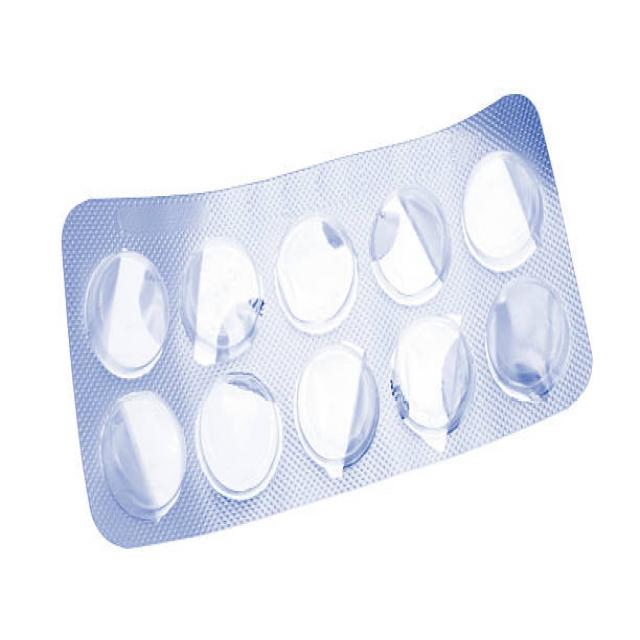Empty: (96, 379, 187, 525), (82, 241, 172, 386), (196, 365, 290, 502), (171, 224, 263, 359), (295, 339, 384, 478), (267, 202, 357, 338), (454, 142, 546, 274), (385, 311, 473, 436), (369, 174, 451, 307), (489, 274, 574, 399)
